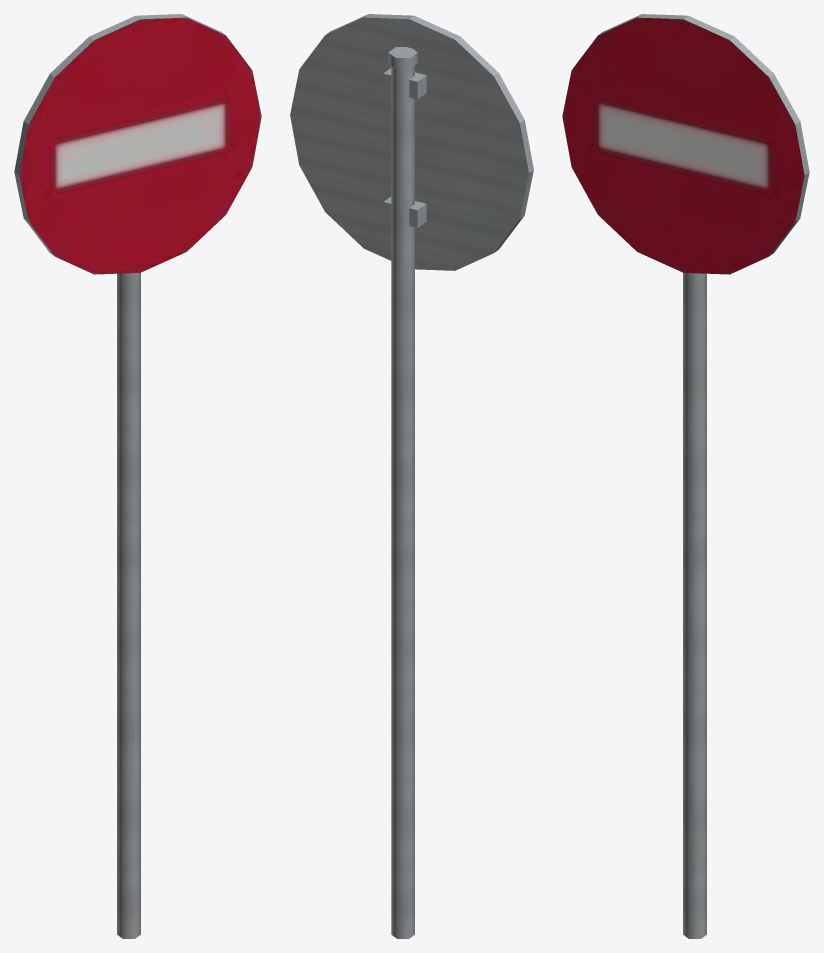
The model's file is panneau_sens_interdit_lod1.glb.
3 renders of one model, left to right at view 1: azimuth 30°, elevation 25°; view 2: azimuth 150°, elevation 25°; view 3: azimuth 330°, elevation 25°, orthographic.
Parts seen in each view (by area): view 1: panneau_sens_interdit; view 2: panneau_sens_interdit; view 3: panneau_sens_interdit.
Boxes of the visible parts, left/top/right/bottom form: panneau_sens_interdit: left=14, top=14, right=261, bottom=938; panneau_sens_interdit: left=290, top=14, right=533, bottom=938; panneau_sens_interdit: left=562, top=14, right=809, bottom=938.
Size of the model in its own units: 0.7002 by 2.55 by 0.0949.
1 material, 1 textured.
